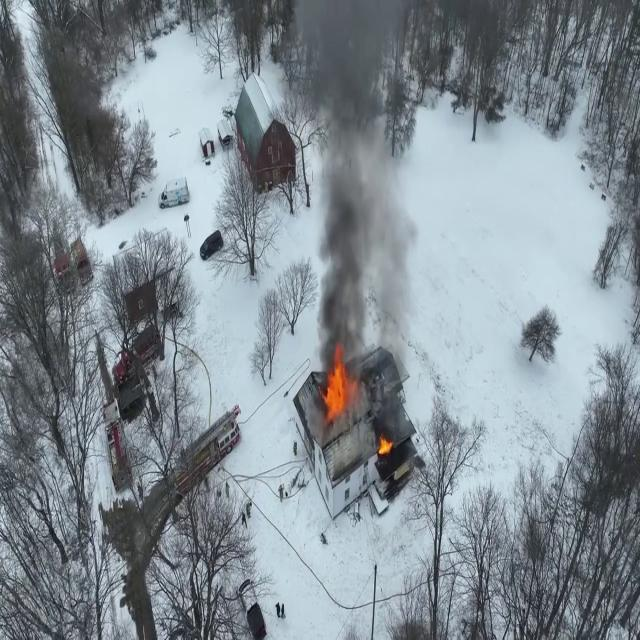Fire: (321, 344, 355, 431), (376, 433, 394, 458)
Smoke: (299, 3, 423, 347)
